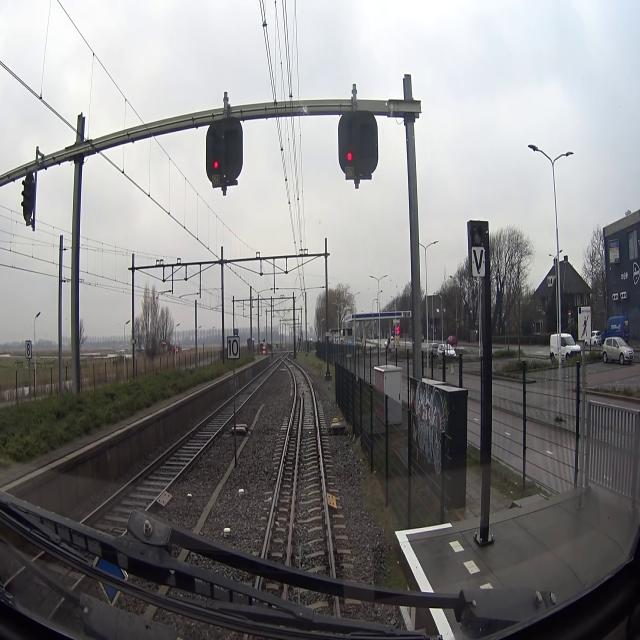rail-track: (83, 399, 233, 532), (266, 363, 330, 575), (236, 363, 275, 407)
